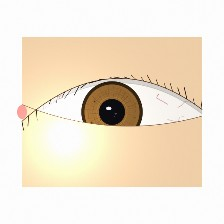pinguecula_lesion: (33, 106, 69, 134)
